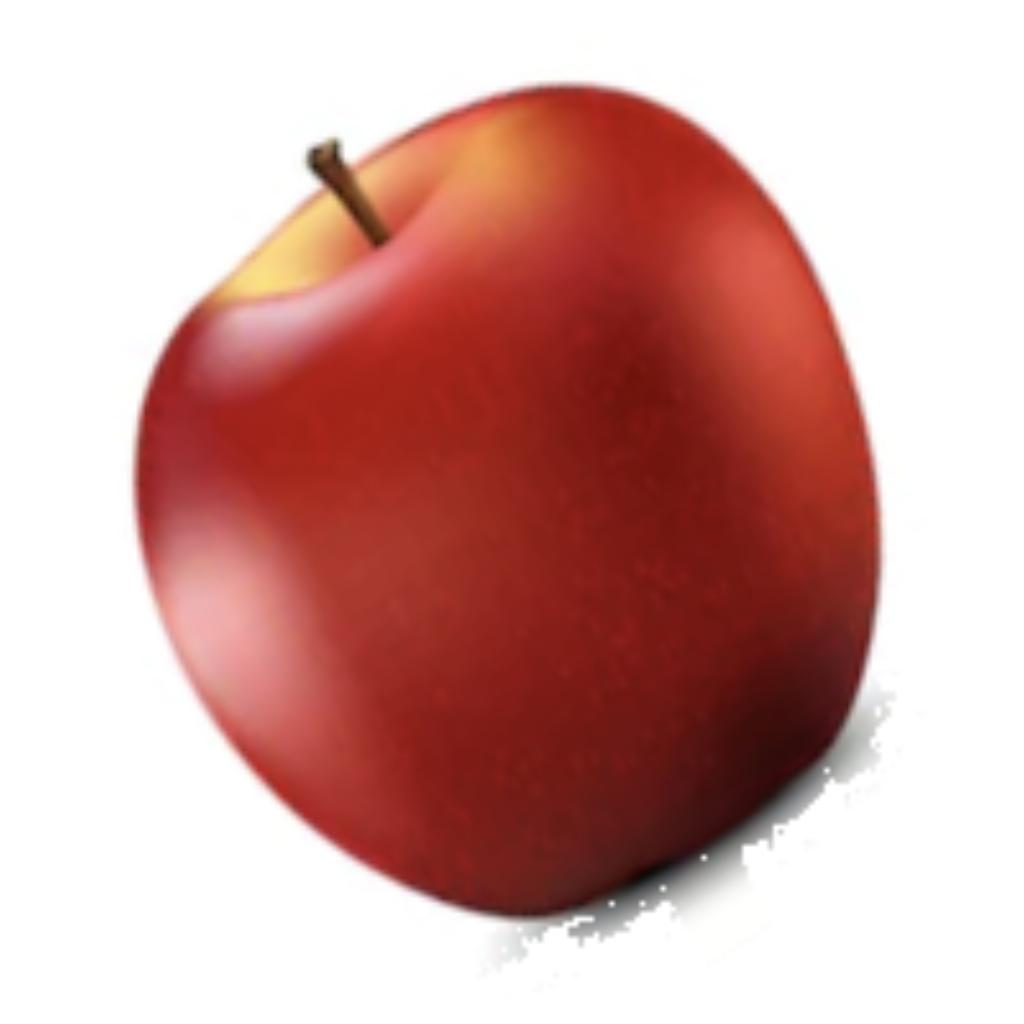apple: (123, 72, 896, 978)
